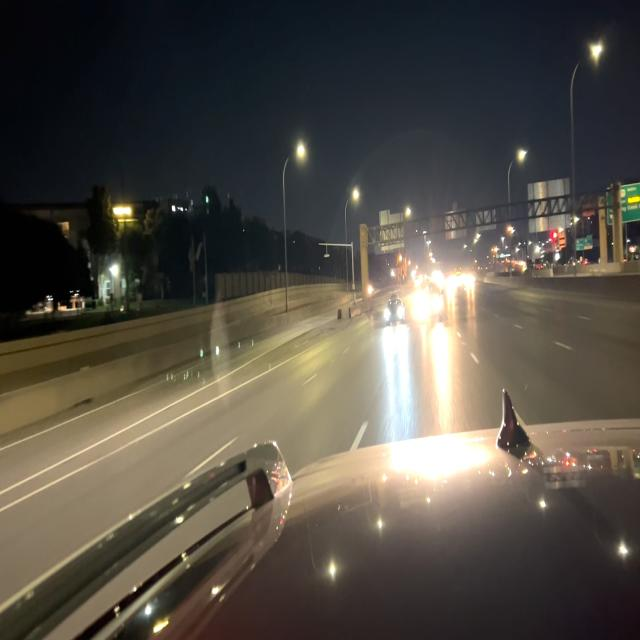back-of-sign: (526, 177, 572, 234), (378, 206, 406, 253), (443, 201, 468, 241), (474, 205, 497, 233)
